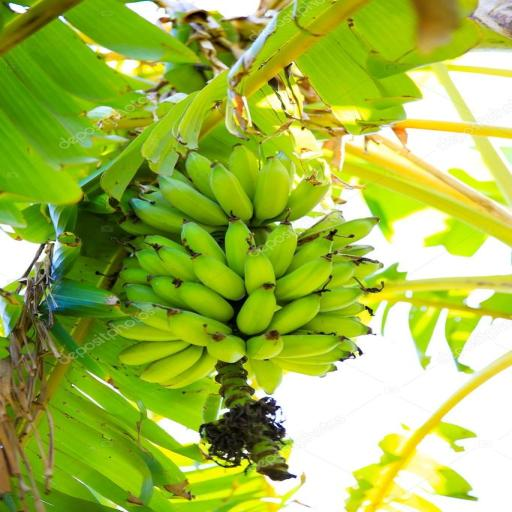banana-unripe: (55, 120, 421, 489)
